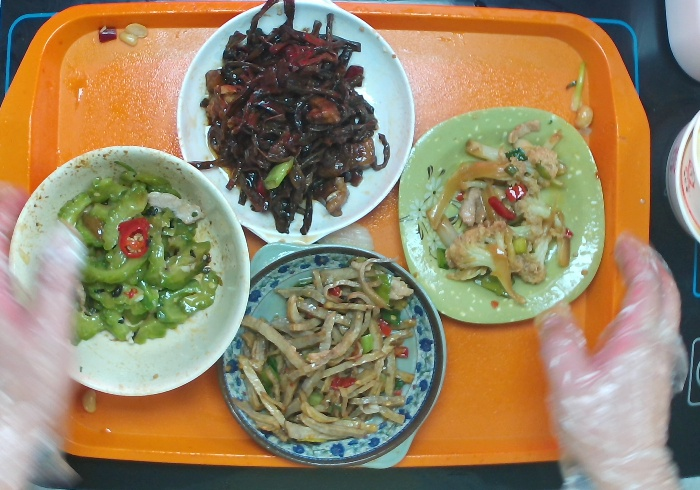NLDX-Bai_Se_Shuang_Er_Die: (168, 1, 416, 251)
NLDX-Bai_Se_Yuan_Wan: (2, 141, 252, 399)
NLDX-Lv_Hua_Fang_Die: (391, 99, 607, 331)
NLDX-Qing_Hua_Shuang_Er_Die: (216, 238, 449, 472)
